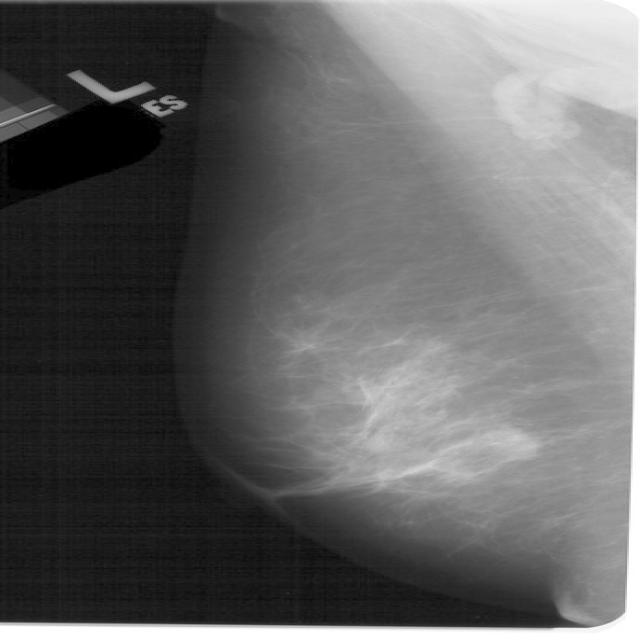tumour: (446, 428, 532, 469)
